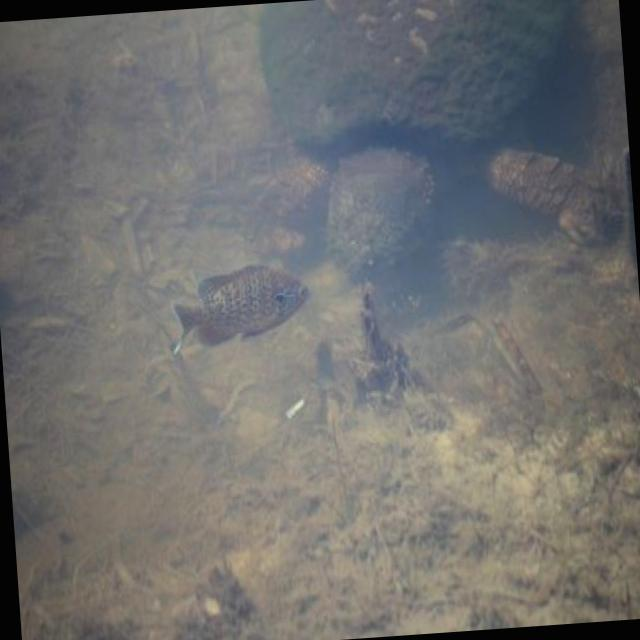Gunes Levregi: (167, 254, 321, 373)
